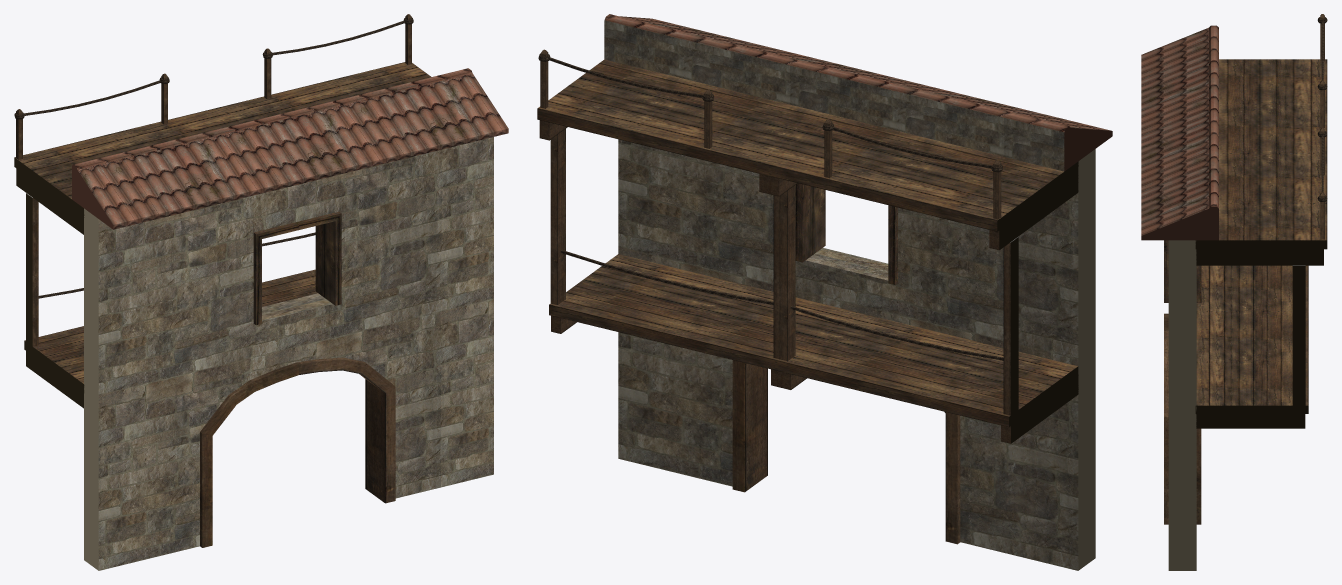
File: FortWallCenter2.dae
3 views of the same model, side by side, from view 1: azimuth 30°, elevation 25°; view 2: azimuth 150°, elevation 25°; view 3: azimuth 270°, elevation 25° (orthographic). The views are drawn at different scales.
Parts seen in each view (by area): view 1: fort_wood_sep45-0; view 2: fort_wood_sep45-0; view 3: fort_wood_sep45-0.
Boxes of the visible parts, x1,y1,x2,y2 form: fort_wood_sep45-0: (14,14,508,570); fort_wood_sep45-0: (537,14,1112,570); fort_wood_sep45-0: (1141,14,1327,570).
Size of the model in its own units: 9.27 by 8.92 by 3.99.
